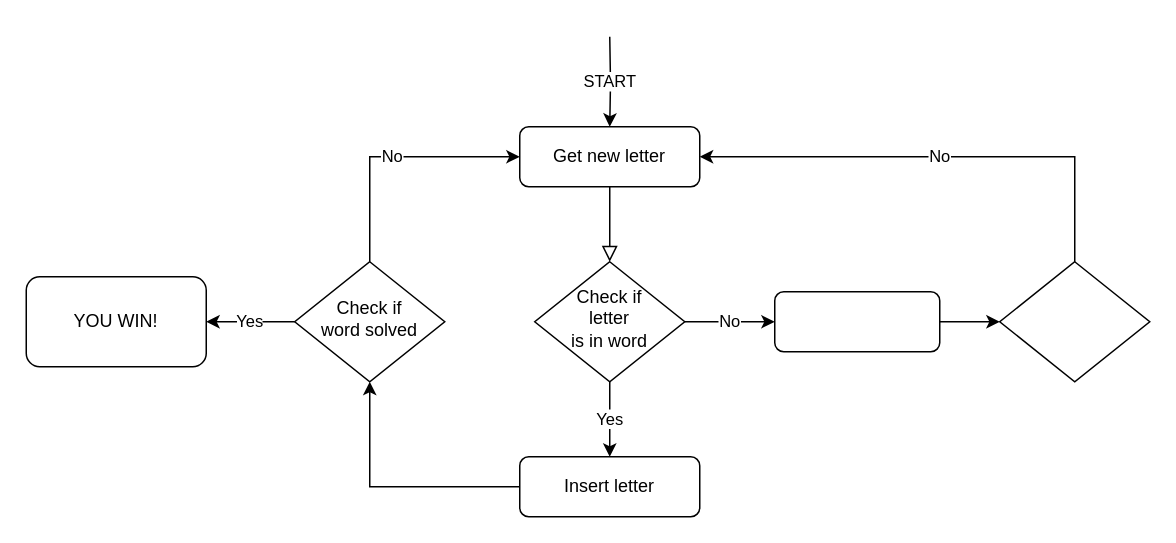
The diagram is 1176 pixels wide and 543 high, and some of its shapes have lost their labels. Each missing label, with the centre of its shape:
Add line to hangman drawing: point 856,321
Check if "Hanged": point 1074,321
